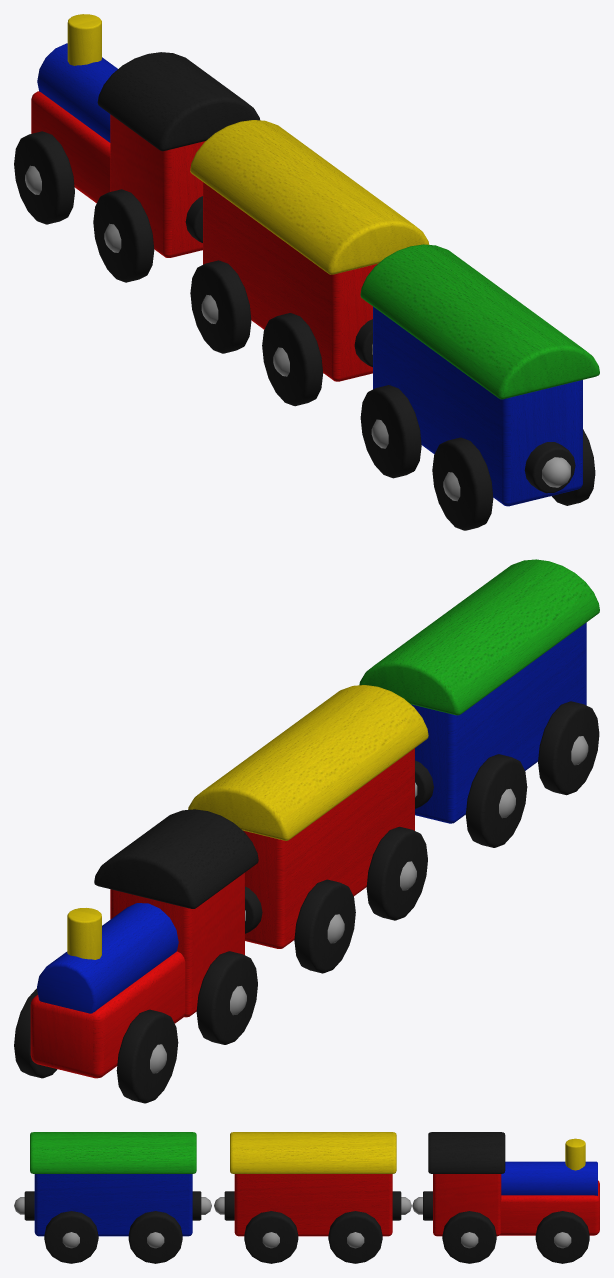
The model's file is toytrain.FBX.
The picture shows the model from 3 angles, top to bottom: view 1: azimuth 30°, elevation 25°; view 2: azimuth 150°, elevation 25°; view 3: azimuth 270°, elevation 25°; orthographic projection. The views are drawn at different scales.
Parts seen in each view (by area): view 1: car2, Car1, Engine, wheels 6, wheels 5, wheels 2, wheels 1, wheels 3, wheels 4; view 2: Engine, car2, Car1, wheels 1, wheels 3, wheels 6, wheels 4, wheels 5, wheels 2; view 3: car2, Car1, Engine, wheels 5, wheels 1, wheels 4, wheels 6, wheels 2, wheels 3.
Boxes of the visible parts, x1,y1,x2,y2 form: car2: (360, 244, 599, 506); Car1: (190, 120, 429, 381); Engine: (31, 14, 259, 257); wheels 6: (432, 429, 595, 530); wheels 5: (360, 385, 421, 478); wheels 2: (93, 189, 154, 282); wheels 1: (14, 131, 74, 224); wheels 3: (190, 260, 251, 353); wheels 4: (262, 313, 323, 406); Engine: (30, 809, 258, 1078); car2: (359, 559, 599, 823); Car1: (188, 685, 428, 948); wheels 1: (14, 988, 178, 1103); wheels 3: (294, 879, 355, 973); wheels 6: (538, 701, 599, 795); wheels 4: (366, 826, 427, 920); wheels 5: (465, 754, 527, 847); wheels 2: (196, 951, 257, 1044); car2: (14, 1132, 211, 1236); Car1: (214, 1132, 411, 1236); Engine: (412, 1132, 599, 1236); wheels 5: (128, 1211, 182, 1263); wheels 1: (535, 1211, 589, 1263); wheels 4: (244, 1211, 298, 1263); wheels 6: (44, 1211, 98, 1263); wheels 2: (442, 1211, 496, 1263); wheels 3: (328, 1211, 382, 1263).
Size of the model in its own units: 0.1308 by 0.8336 by 0.1753.
6 materials, 5 textured.
